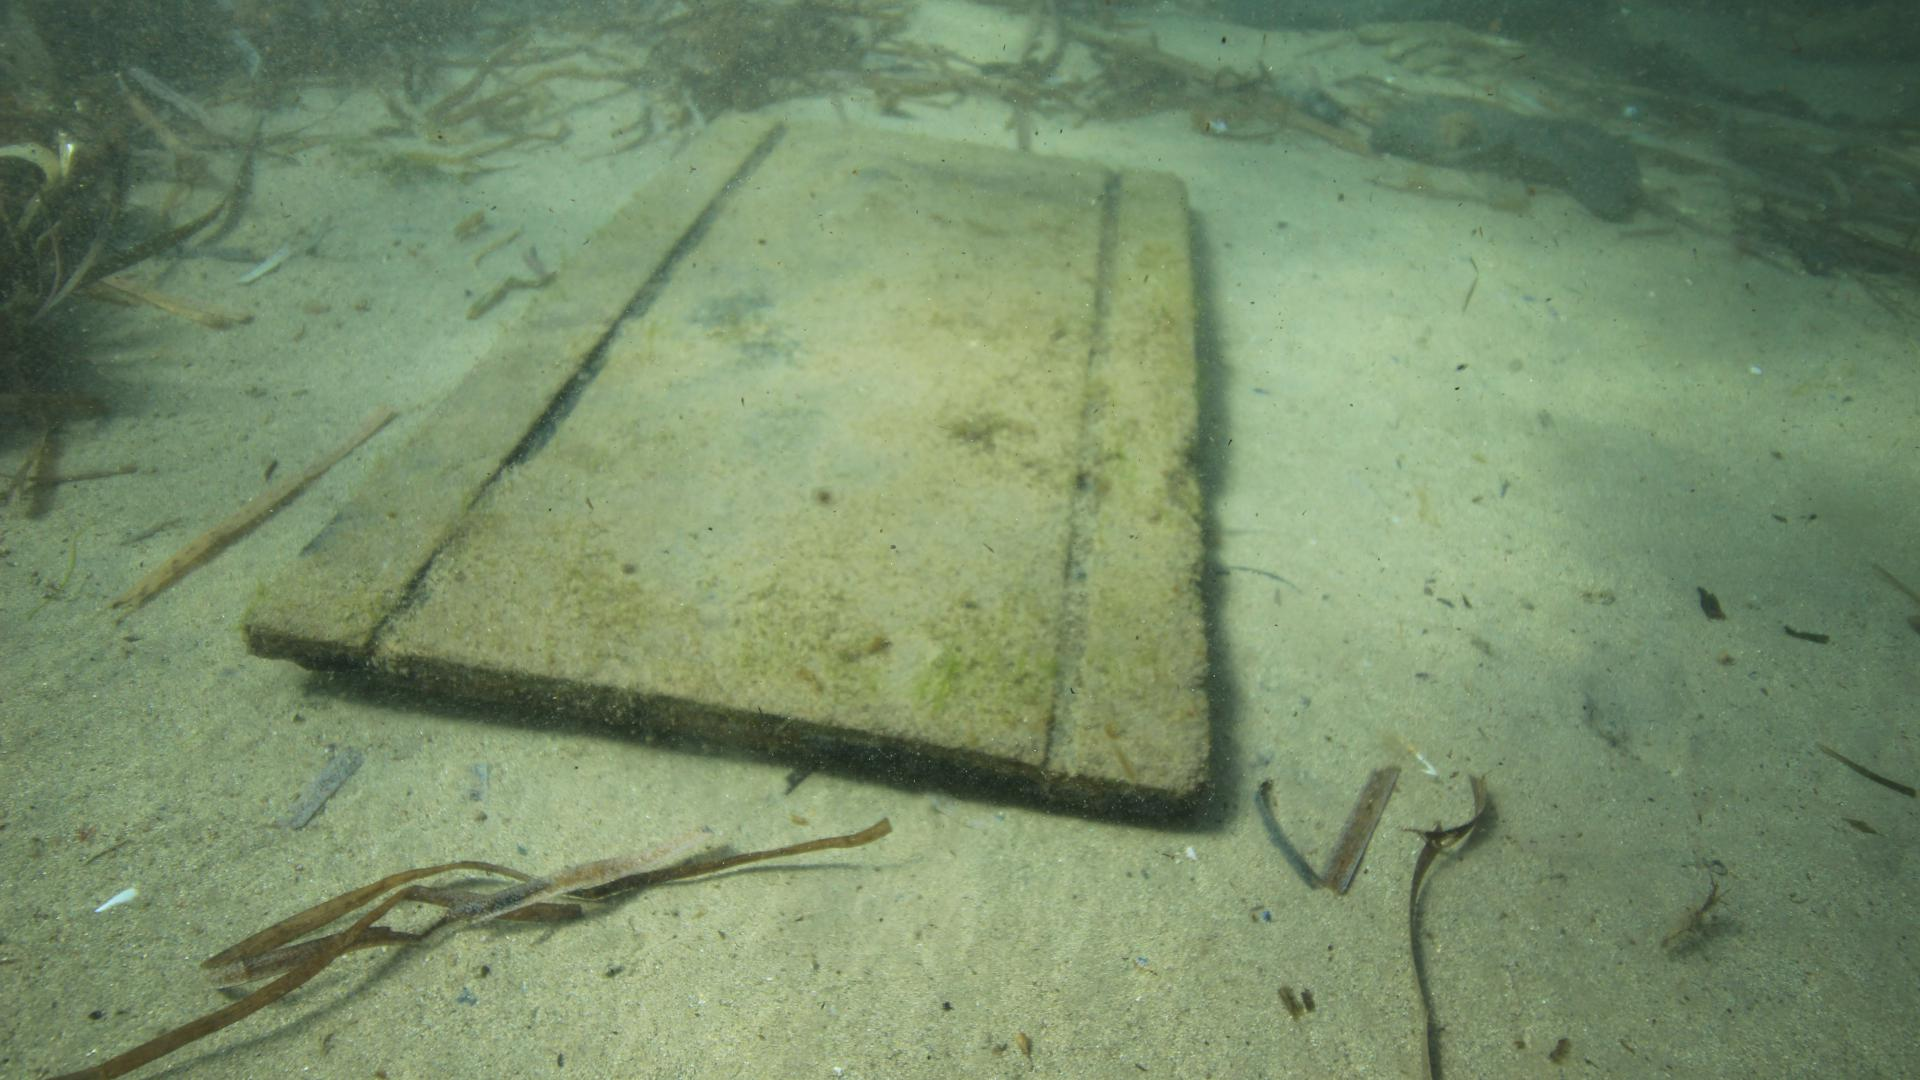wood: (243, 103, 1212, 824)
